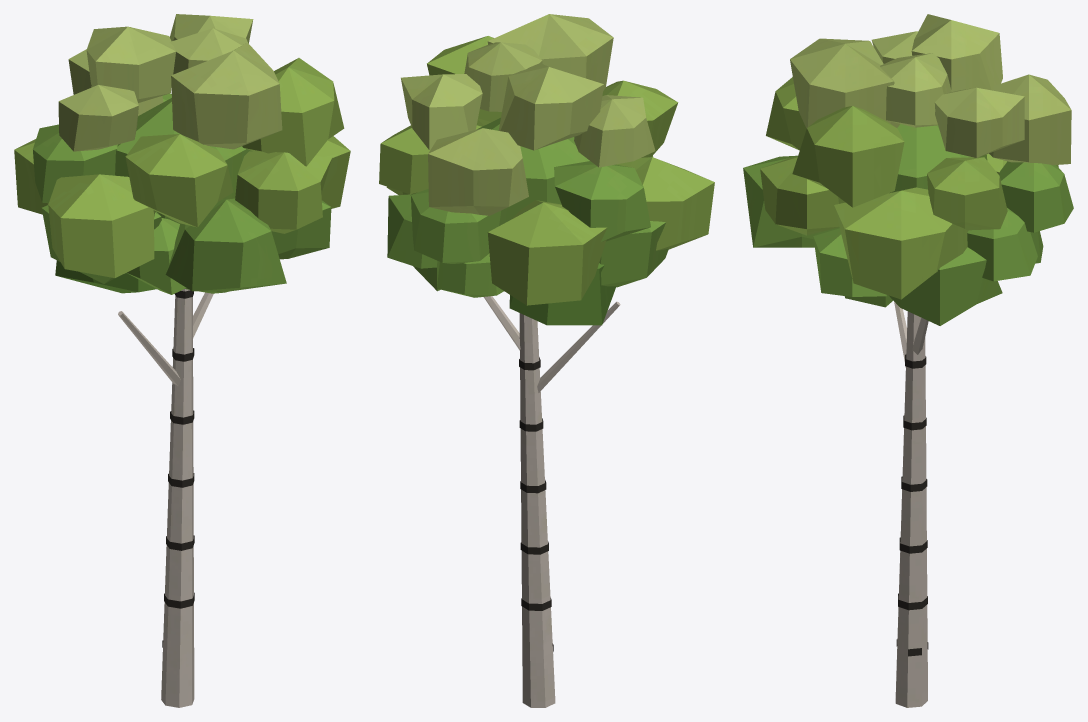
Rendered from tree_birch_01.glb.
The picture shows the model from 3 angles, left to right: view 1: azimuth 30°, elevation 25°; view 2: azimuth 150°, elevation 25°; view 3: azimuth 270°, elevation 25°; orthographic projection.
Visible parts, largest first — view 1: tree_birch_01; view 2: tree_birch_01; view 3: tree_birch_01.
Part boxes in pixels (x1,y1,x2,y2): tree_birch_01: [14, 14, 350, 707]; tree_birch_01: [379, 14, 714, 707]; tree_birch_01: [743, 14, 1073, 707].
Size of the model in its own units: 3.12 by 6.48 by 2.91.
6 materials, 5 textured.
